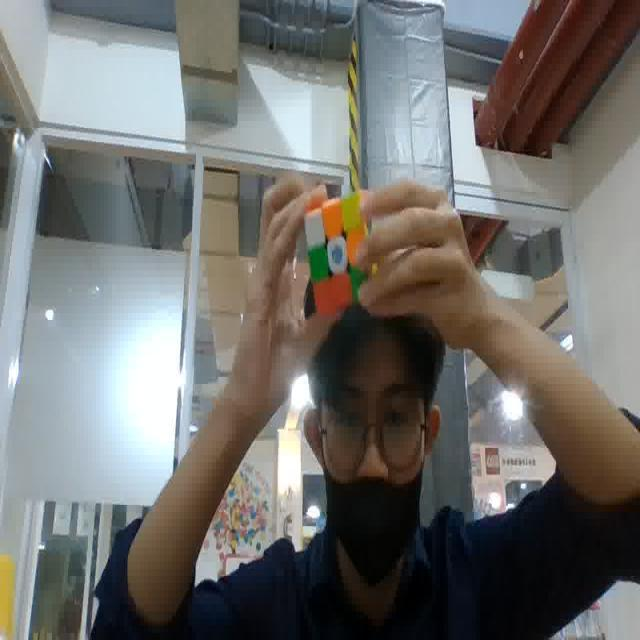Rub: (304, 191, 372, 312)
